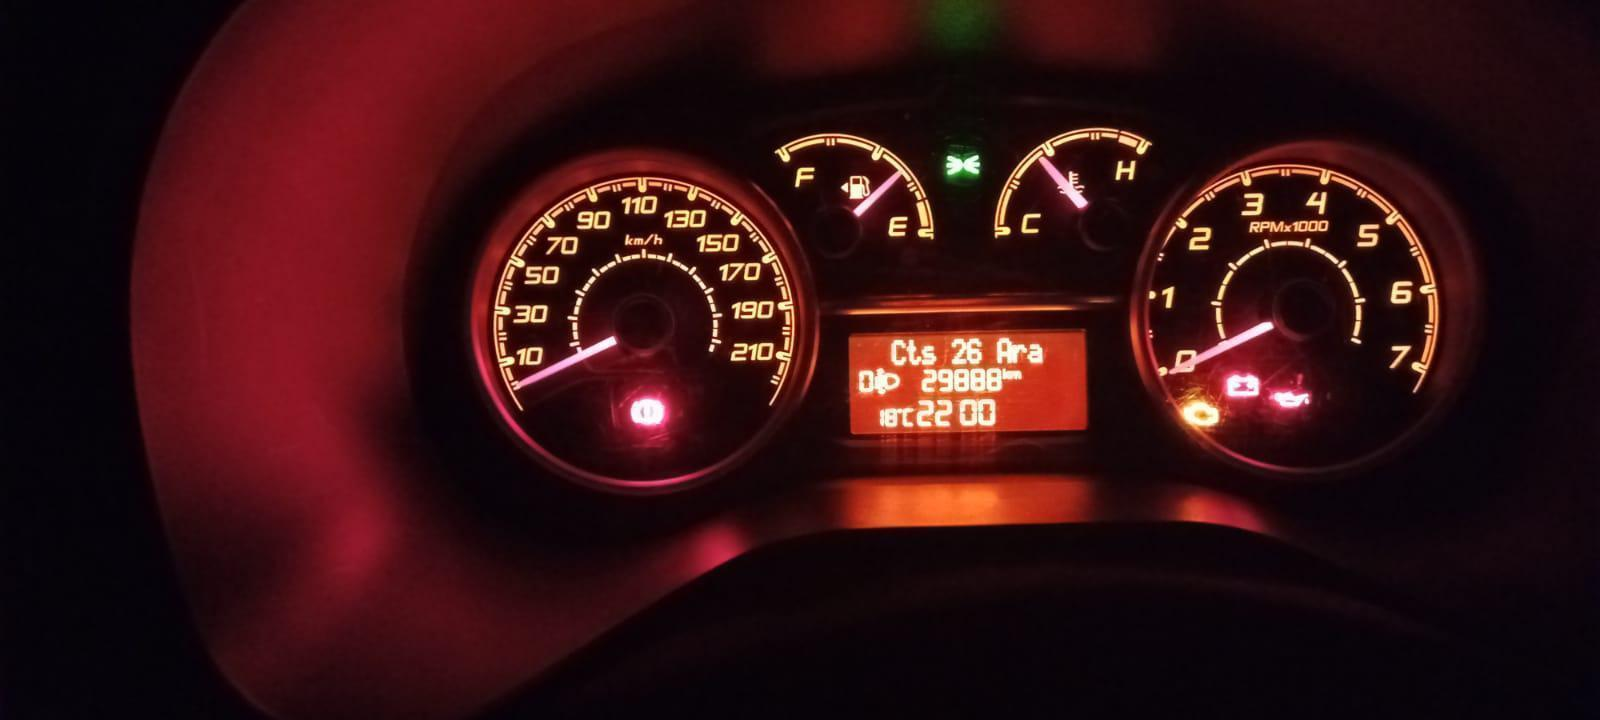0: (977, 398, 997, 427), (959, 398, 977, 426), (857, 368, 874, 392)
1: (878, 408, 884, 427)
2: (935, 398, 952, 427), (916, 399, 934, 428), (950, 336, 967, 365), (919, 368, 937, 392)
6: (967, 336, 984, 365)
8: (986, 367, 1002, 392), (969, 367, 985, 392), (954, 367, 969, 392), (884, 407, 897, 427)
9: (937, 367, 953, 392)
X: (890, 338, 907, 366), (995, 336, 1012, 363), (906, 337, 921, 366), (1027, 343, 1044, 364), (921, 342, 937, 365), (1012, 342, 1027, 363), (902, 405, 914, 428), (1011, 369, 1024, 380), (1002, 366, 1011, 380)
odometer: (844, 332, 1089, 438)
